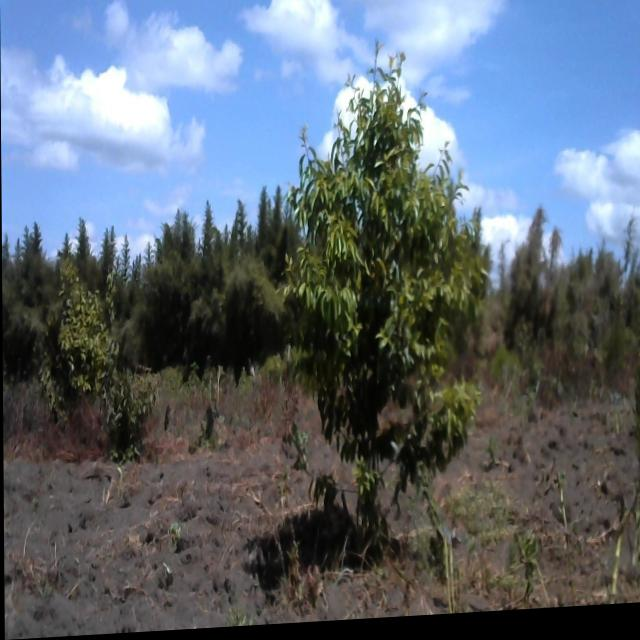Hass Avocado: (288, 69, 491, 579), (41, 253, 109, 425)
